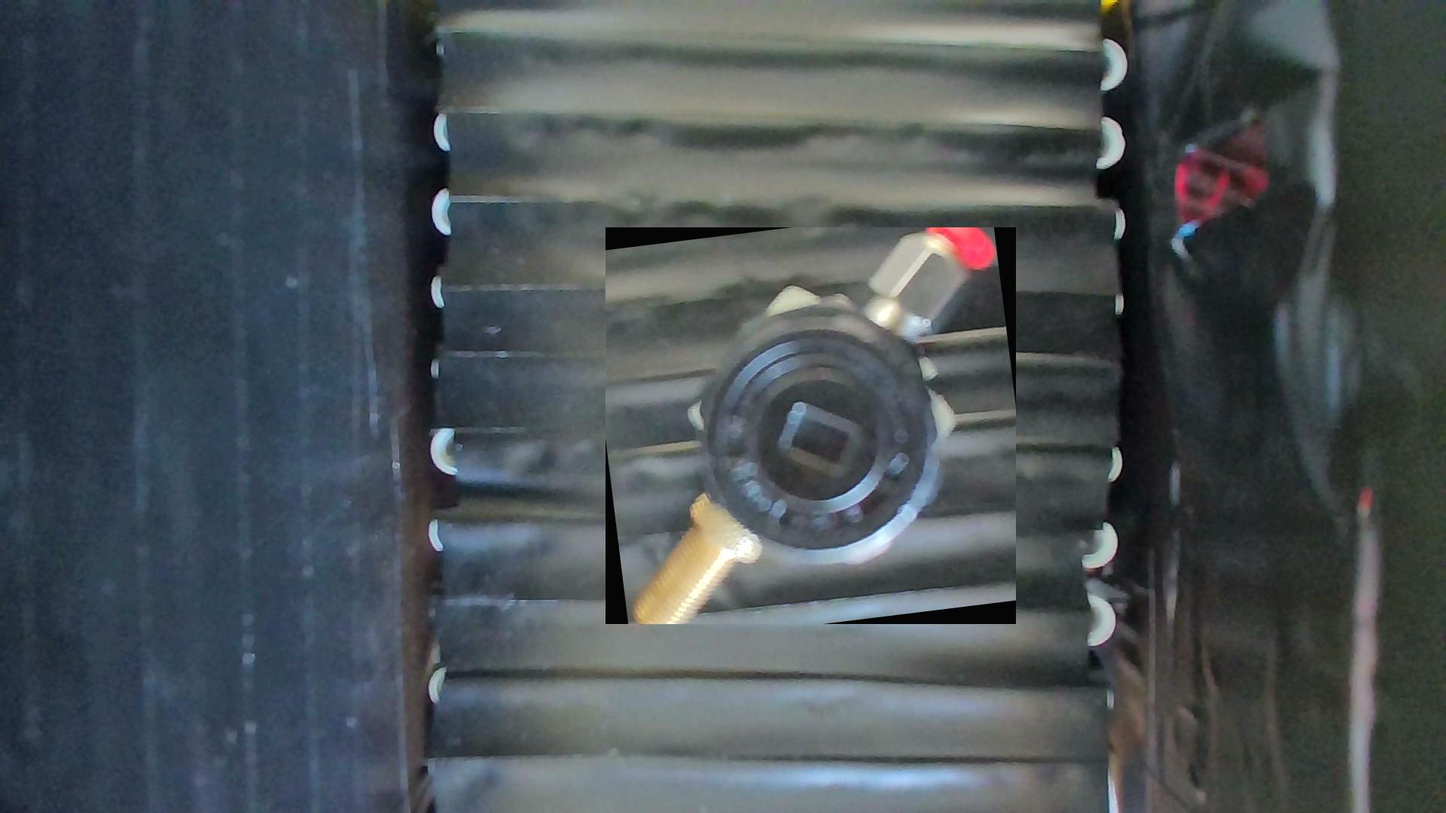regulator: (604, 228, 1015, 625)
